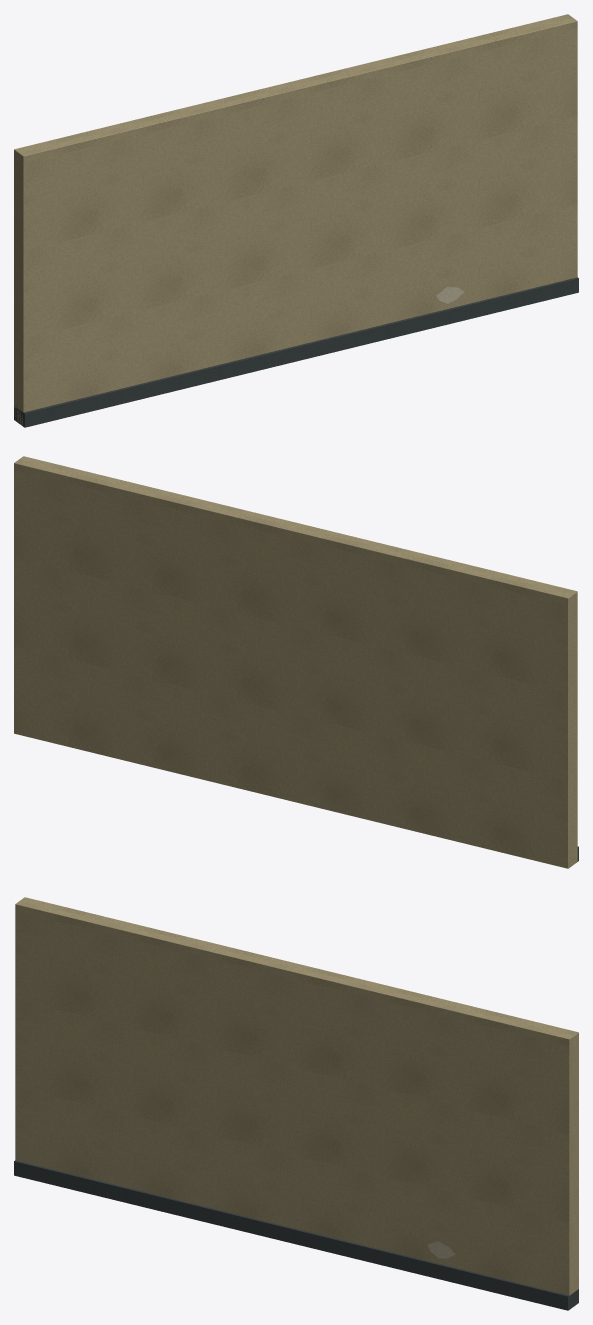
The model's file is end_wall_6m.glb.
3 renders of one model, top to bottom at view 1: azimuth 30°, elevation 25°; view 2: azimuth 150°, elevation 25°; view 3: azimuth 330°, elevation 25°, orthographic.
Visible parts, largest first — view 1: end_wall_6m; view 2: end_wall_6m; view 3: end_wall_6m.
Part boxes in pixels (x1=…): end_wall_6m: x1=14, y1=14, x2=578, y2=427; end_wall_6m: x1=14, y1=456, x2=578, y2=868; end_wall_6m: x1=14, y1=897, x2=578, y2=1310.
Bounding box in the file's own units: 6 × 2.8 × 0.203.
3 materials, 3 textured.
